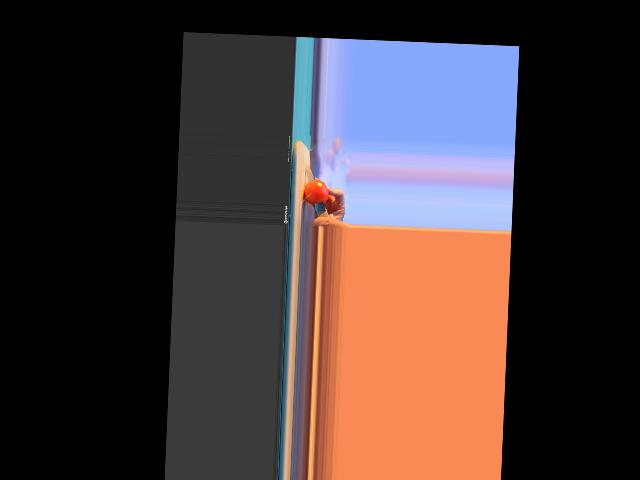tomato: (303, 178, 328, 205)
